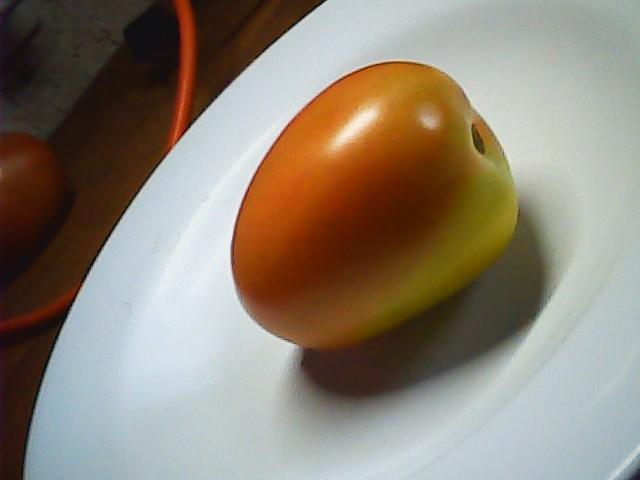verde: (223, 57, 520, 355)
